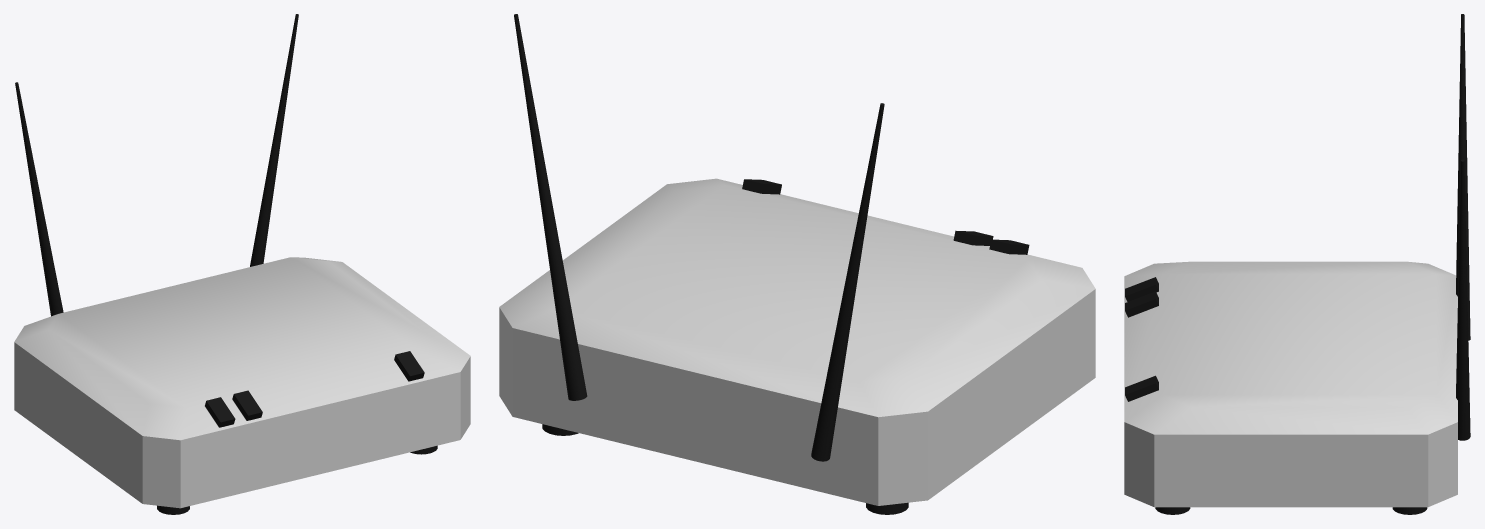
Rendered from Modem.FBX.
The picture shows the model from 3 angles, left to right: view 1: azimuth 30°, elevation 25°; view 2: azimuth 150°, elevation 25°; view 3: azimuth 270°, elevation 25°; orthographic projection. The views are drawn at different scales.
Visible parts, largest first — view 1: Modem; view 2: Modem; view 3: Modem.
Part boxes in pixels (bbox=[...]): Modem: bbox=[14, 14, 470, 514]; Modem: bbox=[499, 14, 1095, 514]; Modem: bbox=[1124, 14, 1470, 514].
Size of the model in its own units: 37.57 by 36.2 by 32.14.
Materials: 2 (1 with a texture image).
